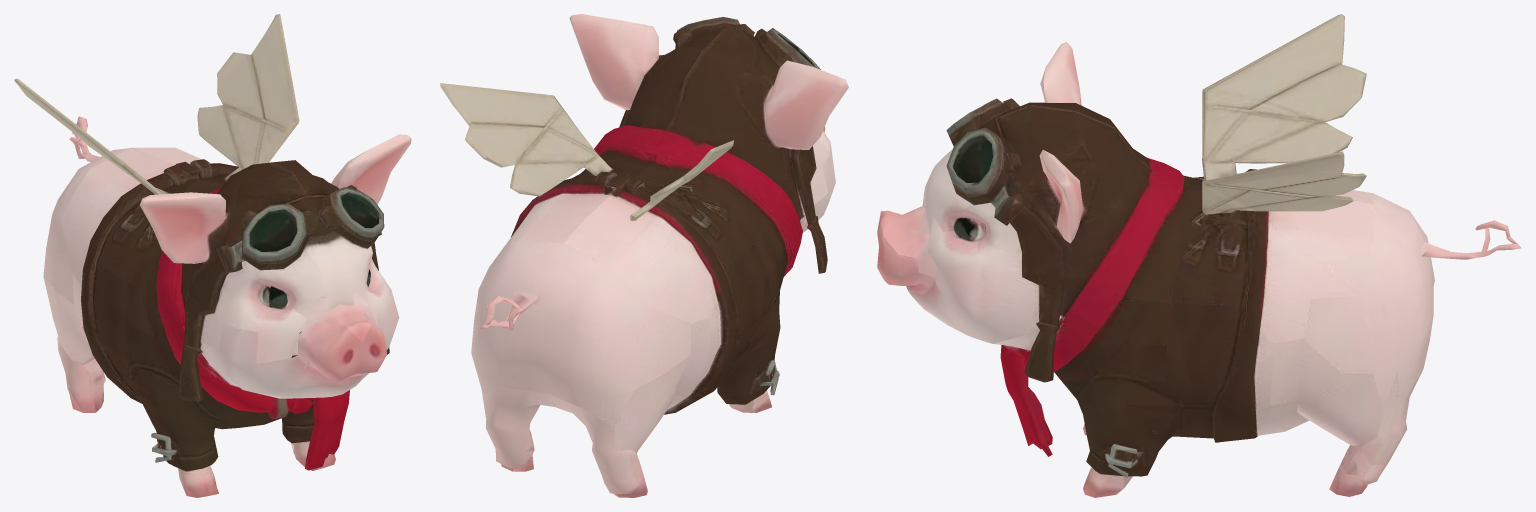
The model's file is four-legged-piglet.glb.
3 renders of one model, left to right at view 1: azimuth 30°, elevation 25°; view 2: azimuth 150°, elevation 25°; view 3: azimuth 270°, elevation 25°, orthographic. The views are drawn at different scales.
Visible parts, largest first — view 1: mesh_node; view 2: mesh_node; view 3: mesh_node.
Boxes of the visible parts, bbox=[...] form: mesh_node: bbox=[14, 14, 411, 497]; mesh_node: bbox=[440, 14, 848, 497]; mesh_node: bbox=[877, 14, 1521, 497].
Size of the model in its own units: 0.5254 by 0.6445 by 1.
1 material, 1 textured.
